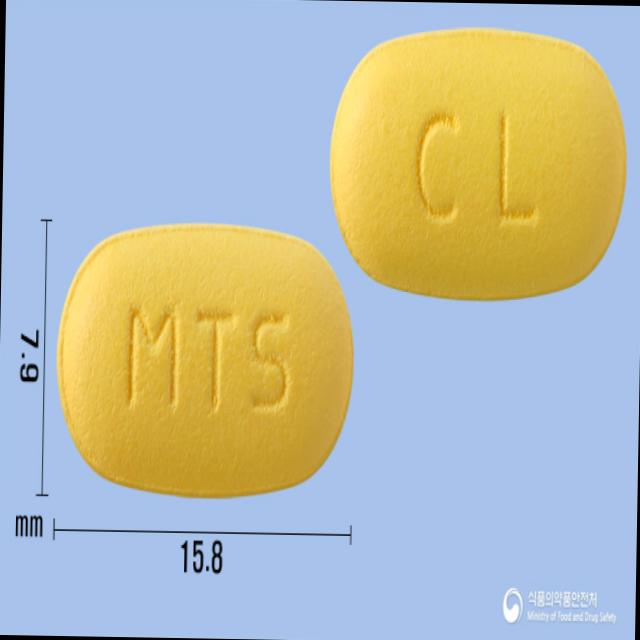Clarimacin - 500mg: (52, 216, 359, 508), (328, 27, 634, 301)
